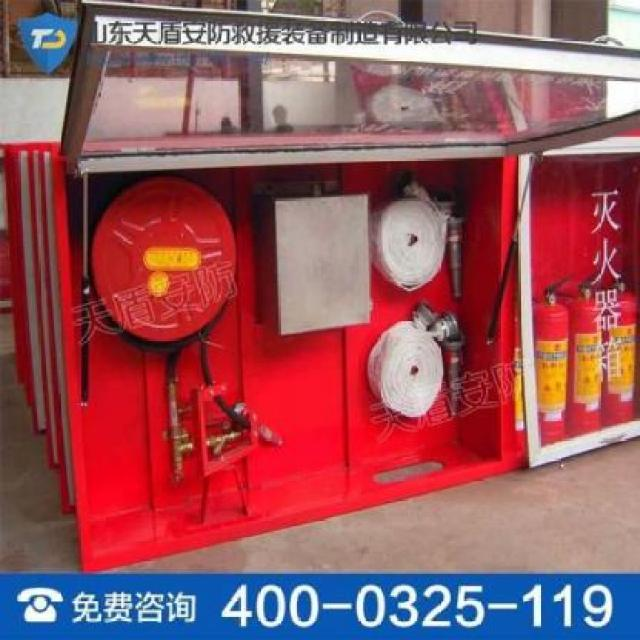firehydrant: (41, 0, 640, 574)
